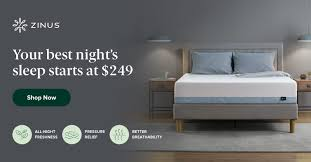bed-matress: (172, 69, 299, 107)
